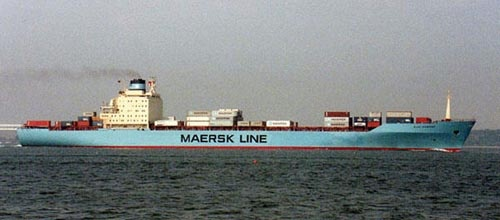Cargoship: (7, 71, 481, 156)
